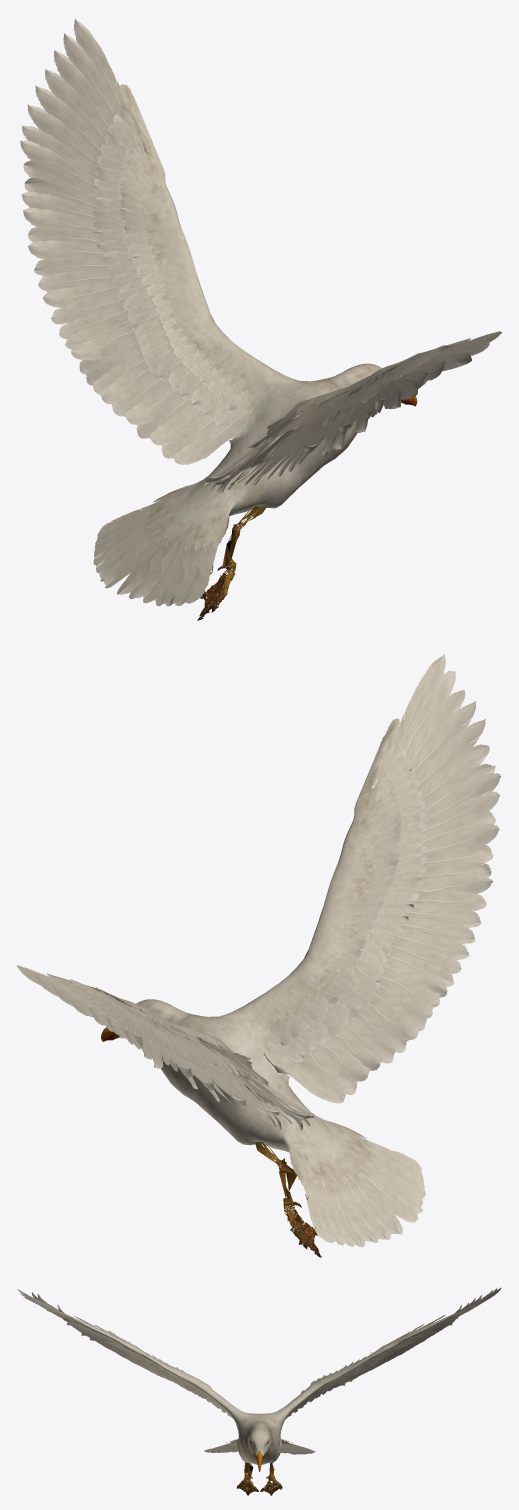
File: bird.glb
3 renders of one model, top to bottom at view 1: azimuth 30°, elevation 25°; view 2: azimuth 150°, elevation 25°; view 3: azimuth 270°, elevation 25°, orthographic. The views are drawn at different scales.
Parts seen in each view (by area): view 1: body1_body_0; view 2: body1_body_0; view 3: body1_body_0.
Part boxes in pixels (<box>): body1_body_0: <box>20,18,501,620</box>; body1_body_0: <box>17,654,500,1257</box>; body1_body_0: <box>17,1287,501,1495</box>.
Bounding box in the file's own units: 1 × 1.28 × 2.4.
Materials: 6 (6 with a texture image).
